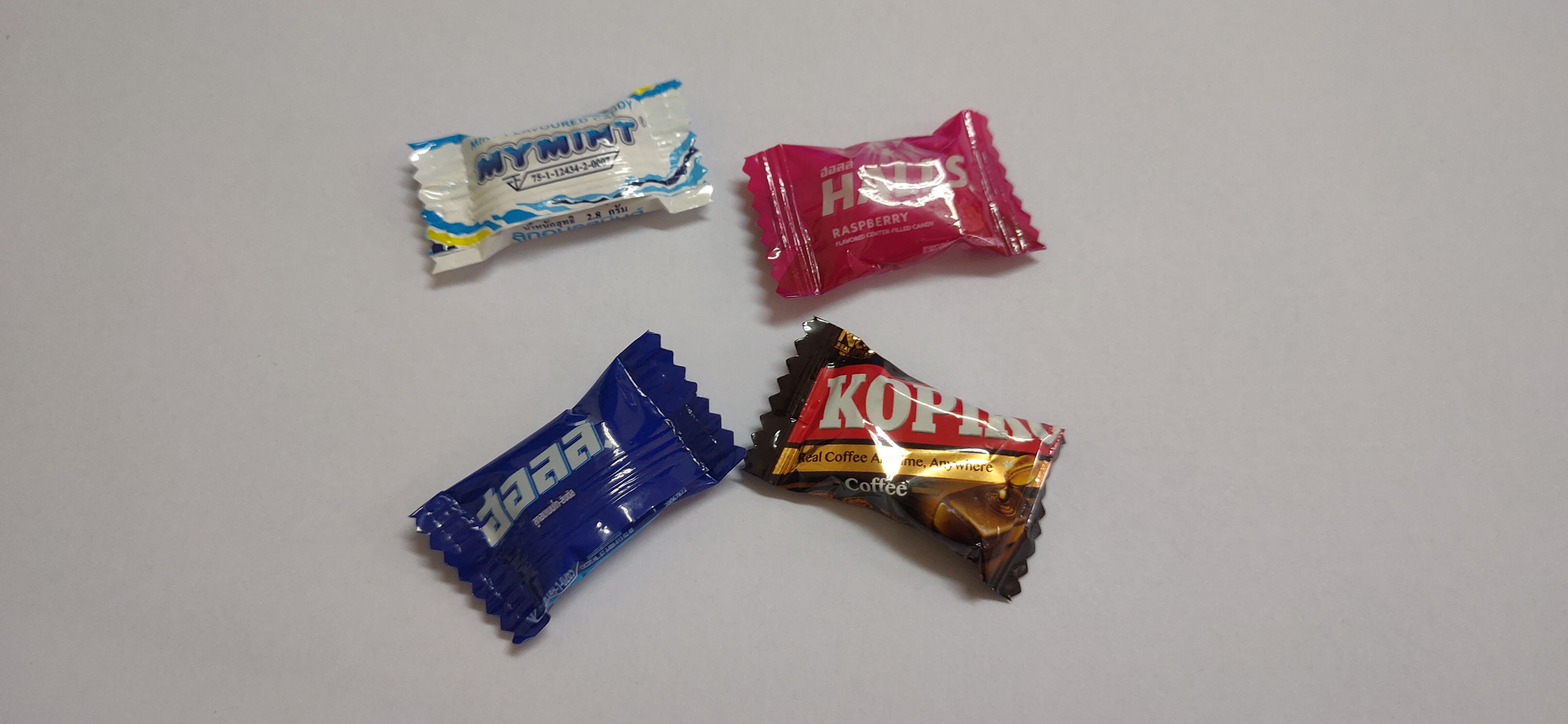plastic: (389, 293, 766, 671), (749, 312, 1097, 630), (402, 54, 741, 323), (730, 86, 1057, 328)
